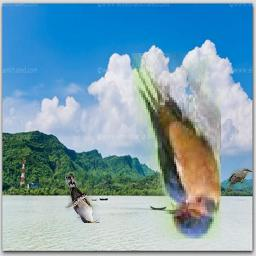Cuckoo: (66, 173, 101, 223), (226, 168, 252, 192)
Swallow: (133, 53, 222, 239)
